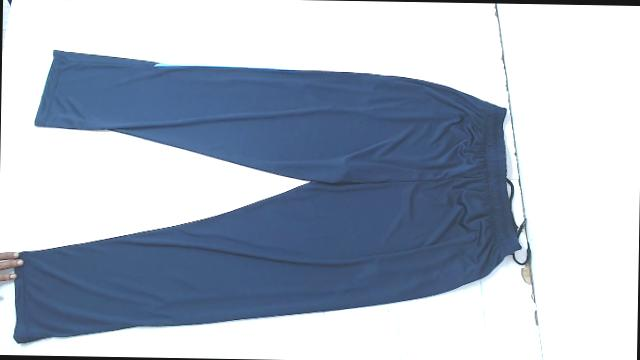new-garment: (15, 50, 519, 341)
